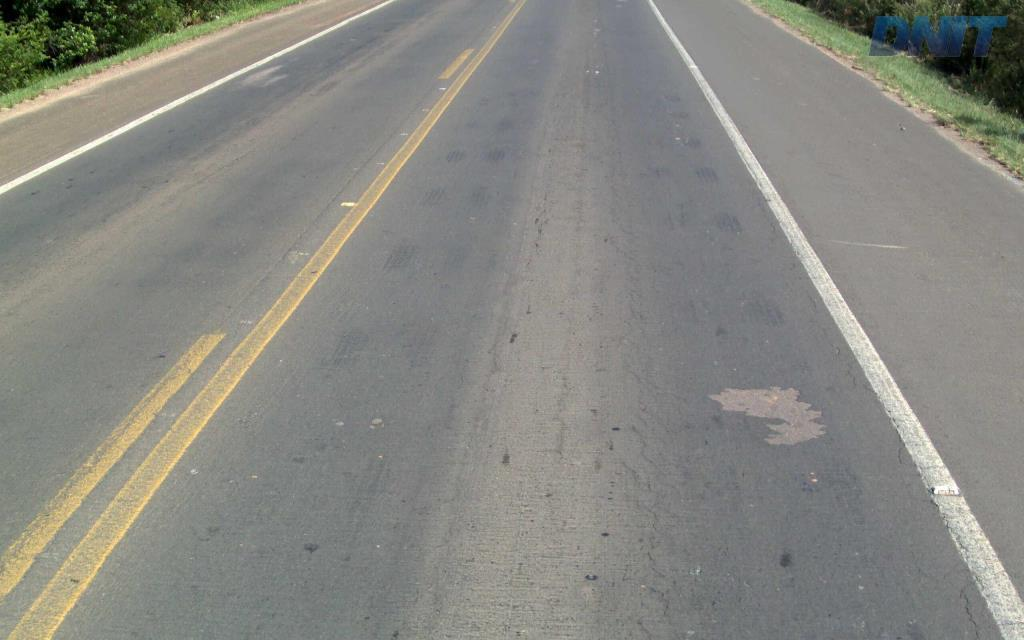pothole: (705, 376, 833, 450)
